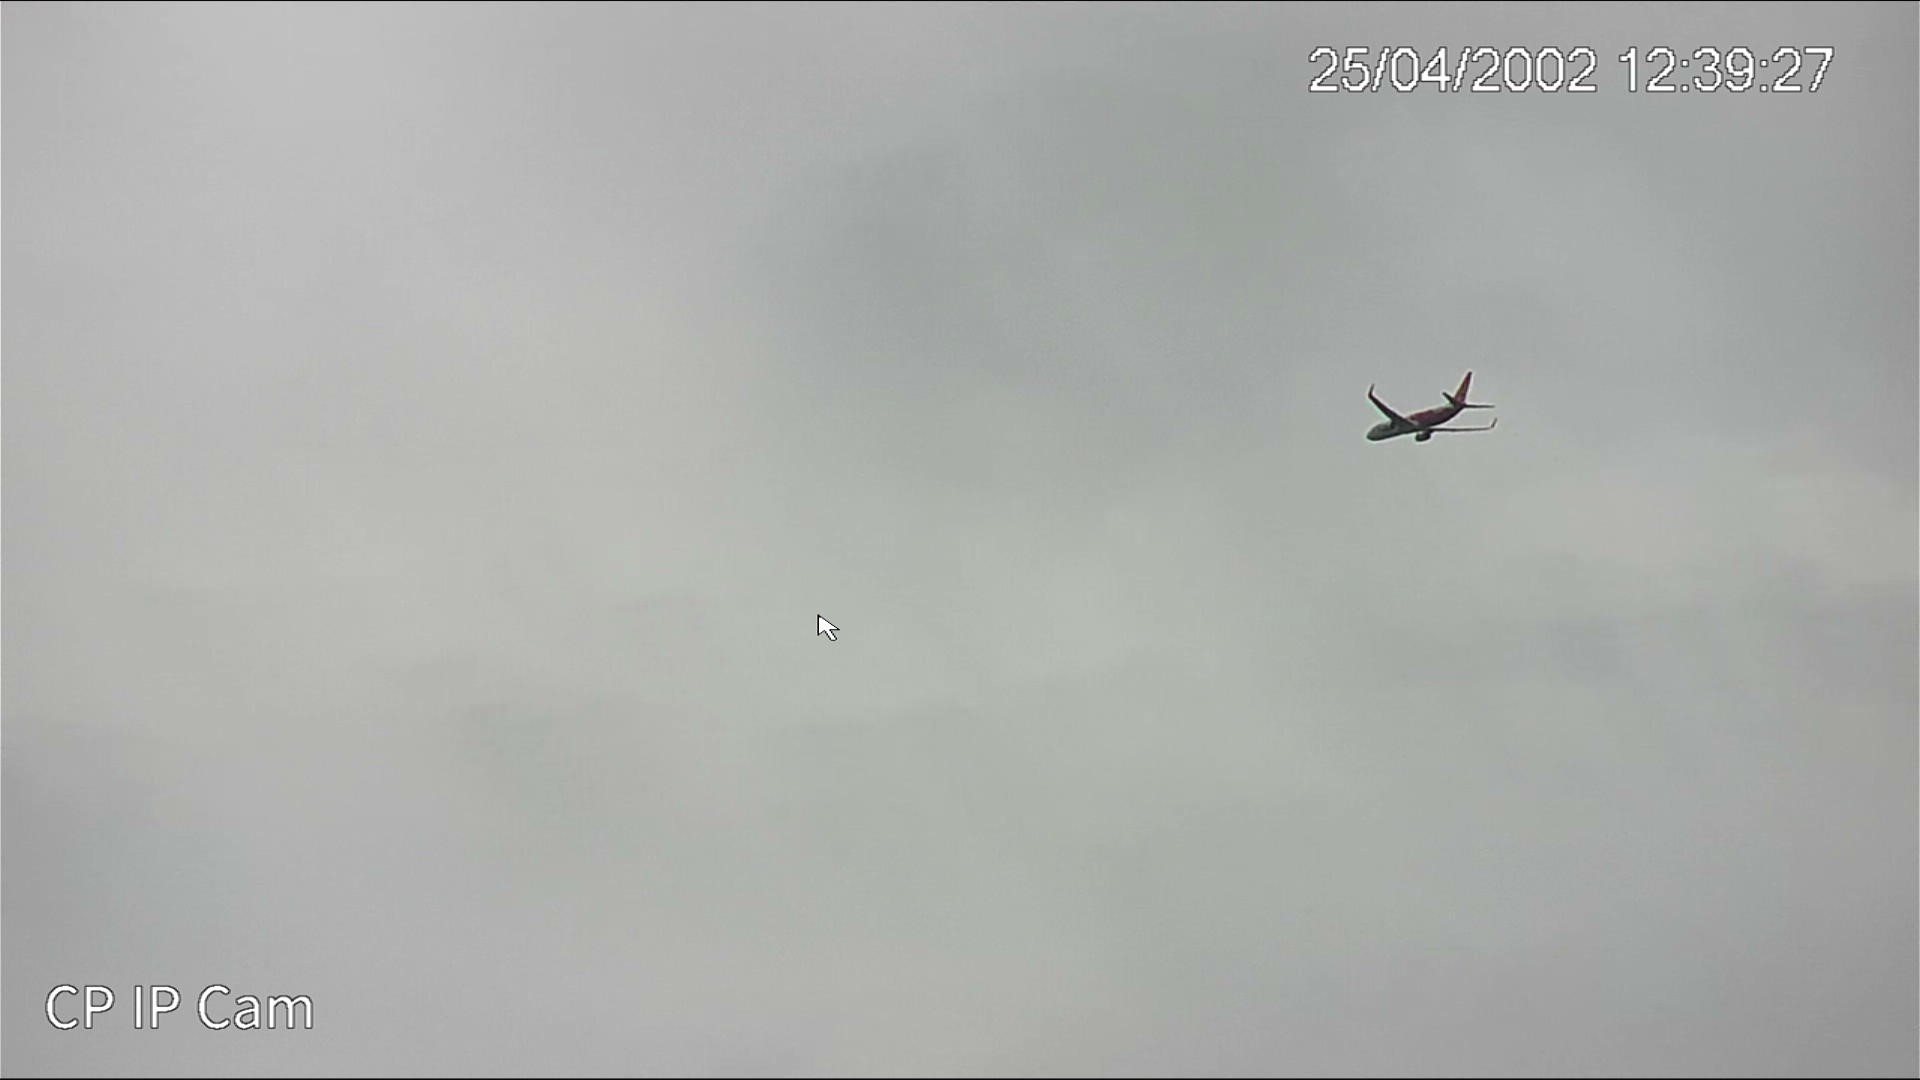SU_30: (1356, 382, 1505, 448)
